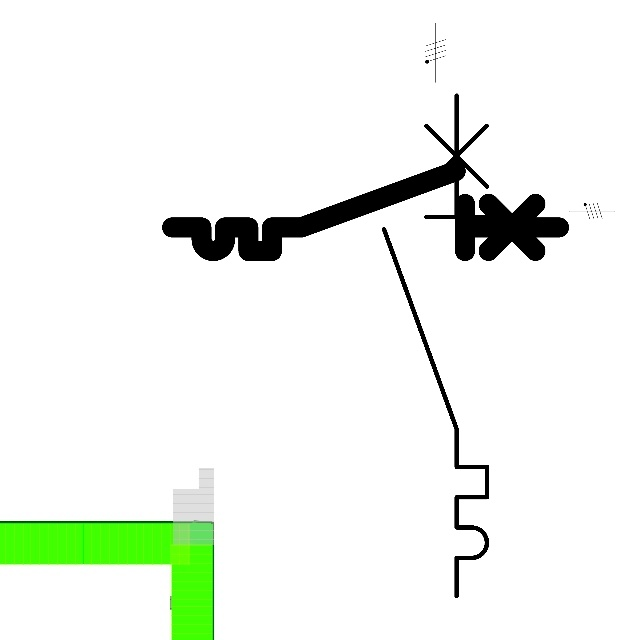interruptor_termomagnetico: (371, 82, 500, 609), (162, 161, 569, 261)
